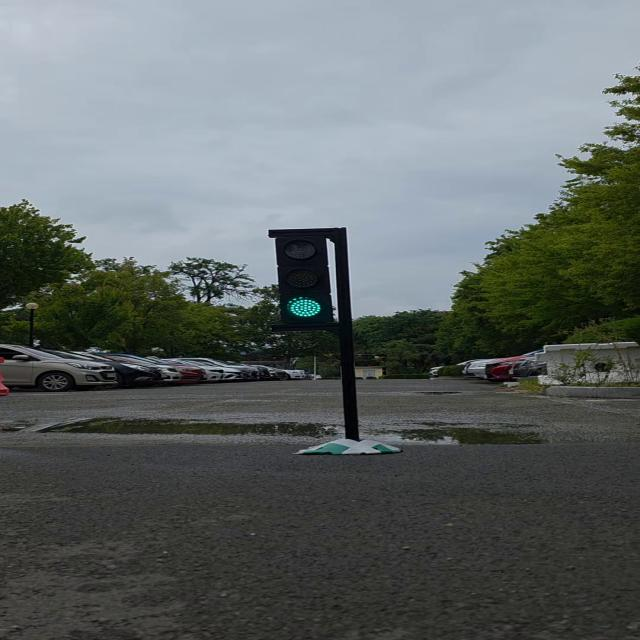green: (272, 227, 352, 331)
